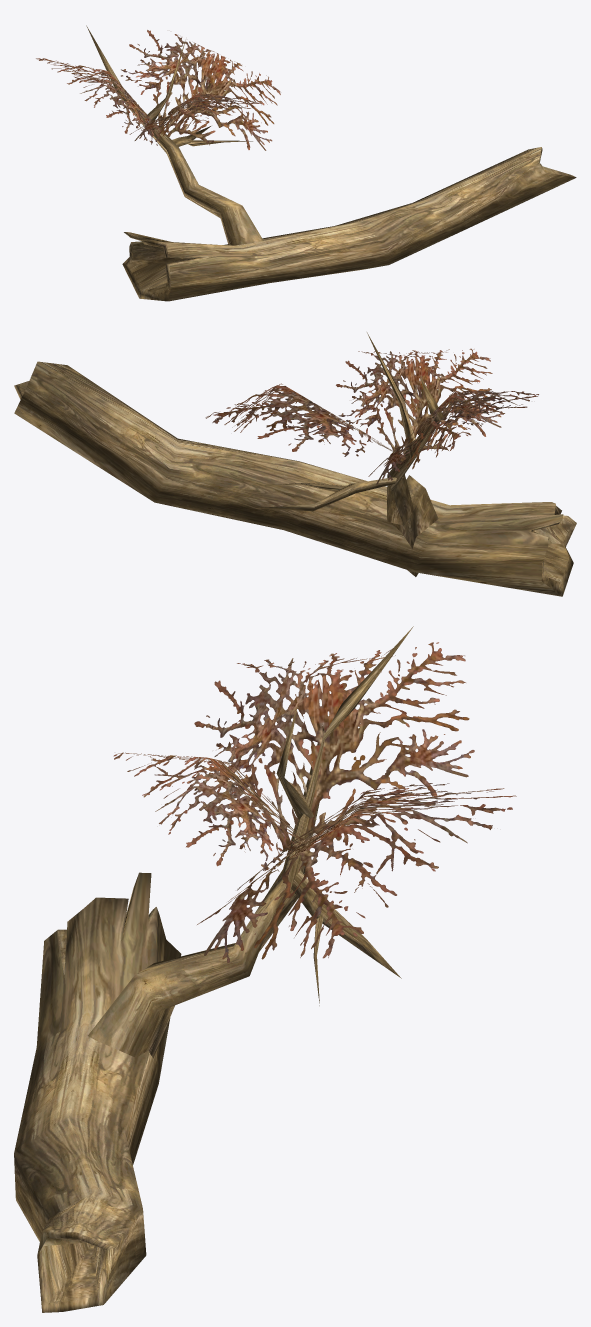
Rendered from S_Tree_Yellow029.FBX.
3 renders of one model, top to bottom at view 1: azimuth 30°, elevation 25°; view 2: azimuth 150°, elevation 25°; view 3: azimuth 270°, elevation 25°, orthographic. The views are drawn at different scales.
Parts seen in each view (by area): view 1: S_Tree_Yellow029; view 2: S_Tree_Yellow029; view 3: S_Tree_Yellow029.
Boxes of the visible parts, left/top/right/bottom form: S_Tree_Yellow029: left=36, top=25, right=576, bottom=301; S_Tree_Yellow029: left=14, top=332, right=576, bottom=596; S_Tree_Yellow029: left=14, top=626, right=516, bottom=1312.
Size of the model in its own units: 657 by 385 by 317.
